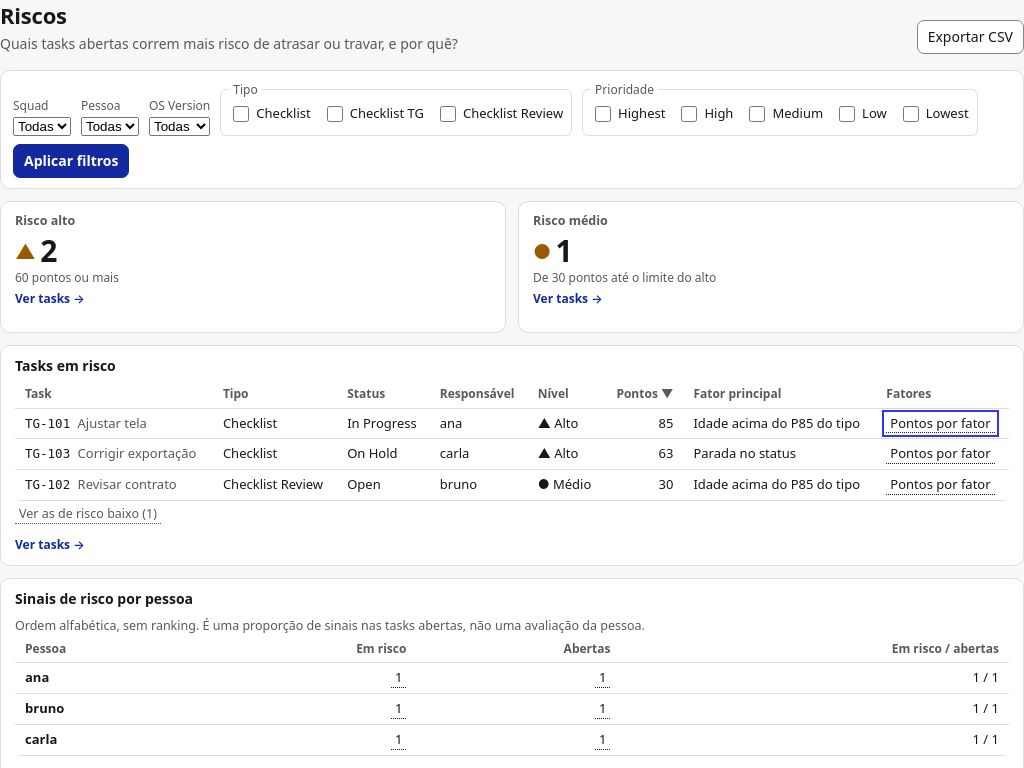
tela Riscos › escFechaAGavetaDeFatoresEDevolveOFoco
This screenshot has width=1024, height=768.
Click the button with aria-label "Pontos por fator de TG-101" at (940, 424), box [886, 414, 995, 433]
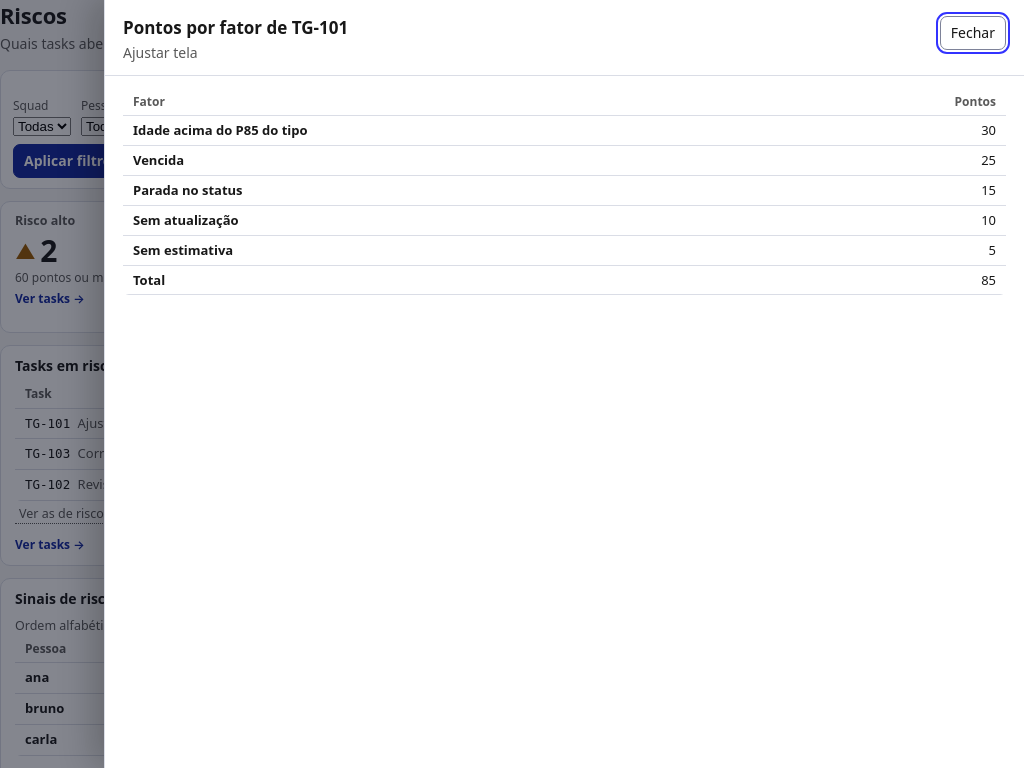
Check: the dialog is shown
Press Escape
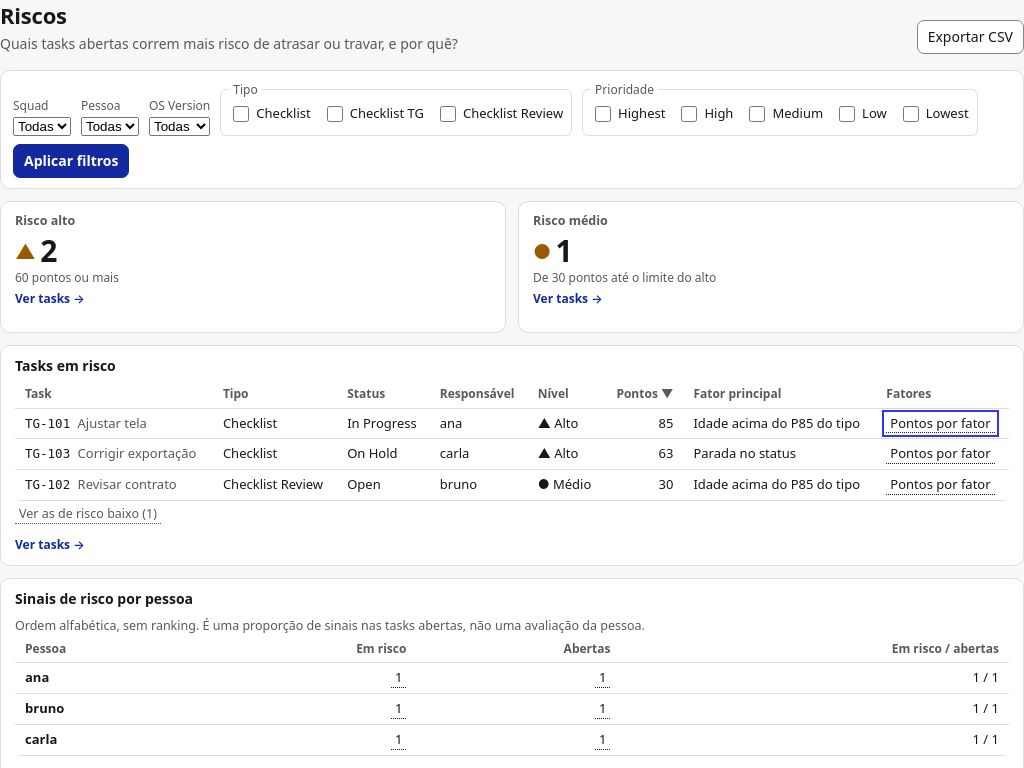
Check: the dialog is gone
